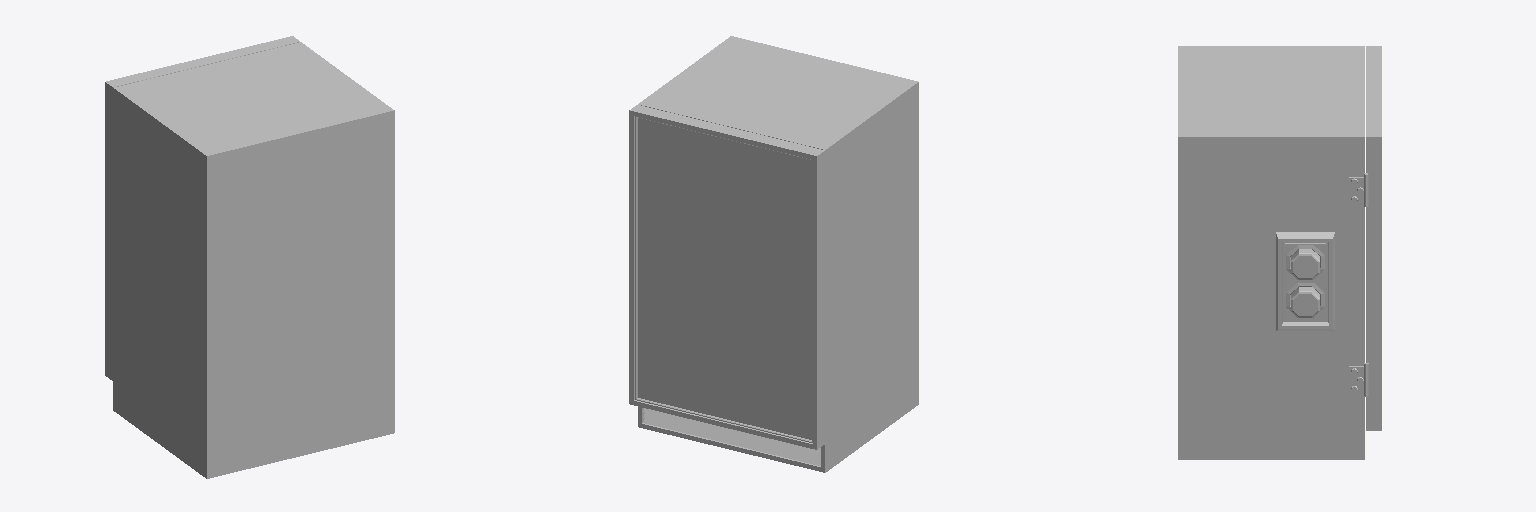
File: DeepFridge.obj
3 views of the same model, side by side, from view 1: azimuth 30°, elevation 25°; view 2: azimuth 150°, elevation 25°; view 3: azimuth 270°, elevation 25° (orthographic).
Parts seen in each view (by area): view 1: DeepFridge_Cube.020, DeepFridgeDoor_Cube.027; view 2: DeepFridgeDoor_Cube.027, DeepFridge_Cube.020; view 3: DeepFridge_Cube.020, DeepFridgeDoor_Cube.027, FridgeButtonOFF_Cylinder.010, FridgeButtonON_Cylinder.008.
Boxes of the visible parts, x1=… form: DeepFridge_Cube.020: x1=113, y1=42, x2=394, y2=478; DeepFridgeDoor_Cube.027: x1=105, y1=36, x2=299, y2=380; DeepFridgeDoor_Cube.027: x1=629, y1=105, x2=824, y2=449; DeepFridge_Cube.020: x1=638, y1=36, x2=918, y2=472; DeepFridge_Cube.020: x1=1178, y1=46, x2=1368, y2=459; DeepFridgeDoor_Cube.027: x1=1366, y1=46, x2=1381, y2=430; FridgeButtonOFF_Cylinder.010: x1=1291, y1=287, x2=1319, y2=317; FridgeButtonON_Cylinder.008: x1=1291, y1=249, x2=1319, y2=279.
Bounding box in the file's own units: 1.95 × 3 × 1.72.